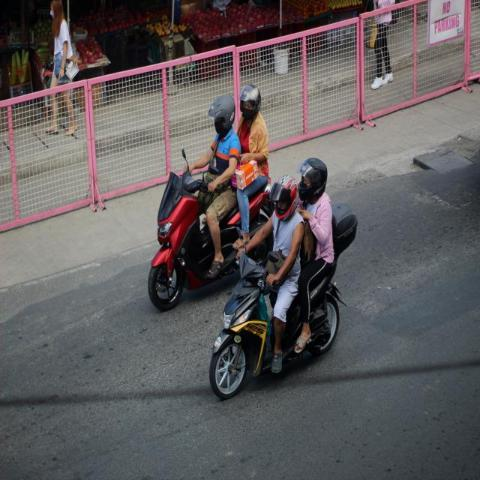motorcycle: (208, 157, 358, 400), (150, 81, 284, 310)
